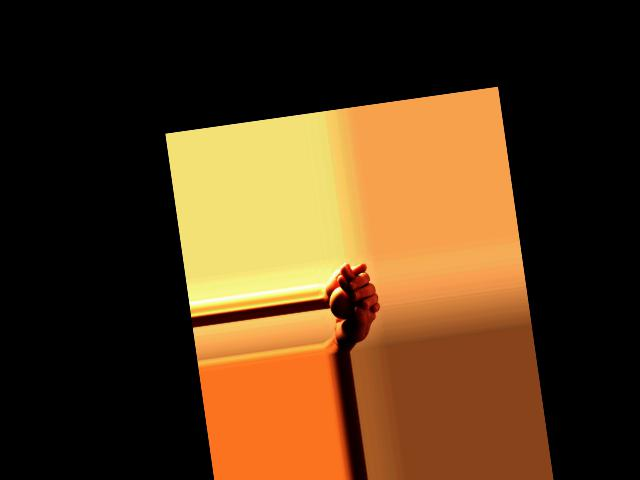egg: (327, 285, 354, 321)
